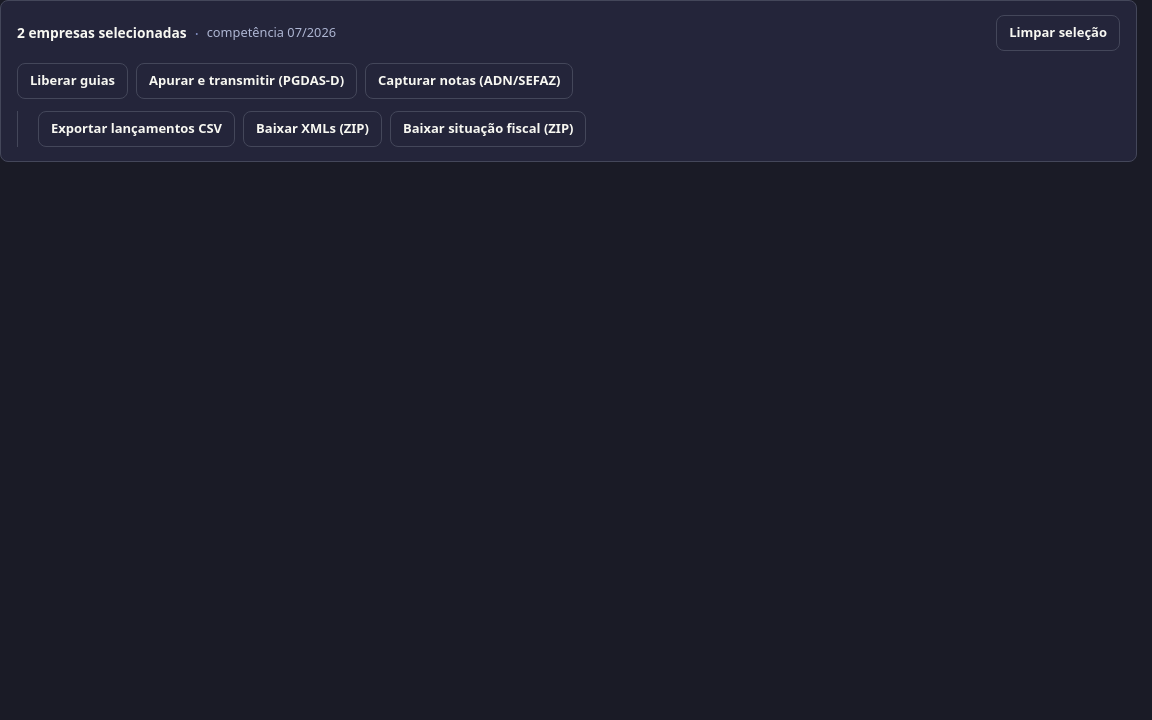
Test: ⚠ PRÉVIA ANTES, CONFIRMAÇÃO DEPOIS — nada sai no clique do botão › a confirmação REPETE os números que saem do relatório (3 guias, 2 empresas, 07/2026)
Click the button "Liberar guias" at (72, 81), box [17,63,128,99]
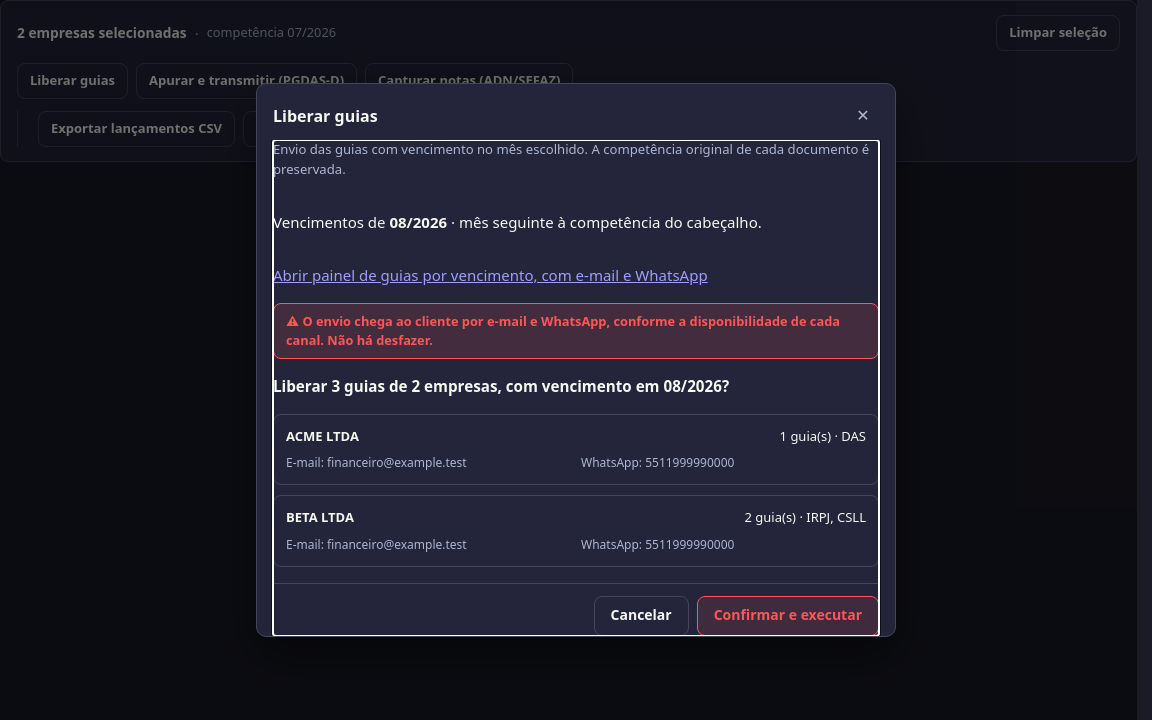
expect the text "2 guia(s) · IRPJ, CSLL" is shown: met, box [744,508,866,528]
expect the text "chega ao cliente" is shown: met, box [286,312,840,349]
